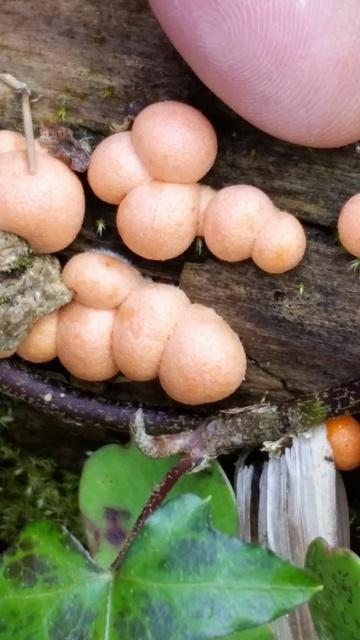Non-edible Mushroom: (1, 97, 307, 406), (86, 98, 306, 274), (15, 248, 247, 405), (145, 0, 359, 149), (0, 135, 85, 254), (201, 182, 306, 274), (157, 302, 247, 405), (111, 280, 191, 382), (129, 99, 218, 183), (115, 179, 202, 261), (55, 299, 118, 382), (60, 248, 143, 309), (86, 129, 152, 205), (250, 208, 306, 274), (316, 413, 359, 484), (335, 189, 359, 261)
